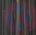No Stopping: (2, 0, 35, 32)
